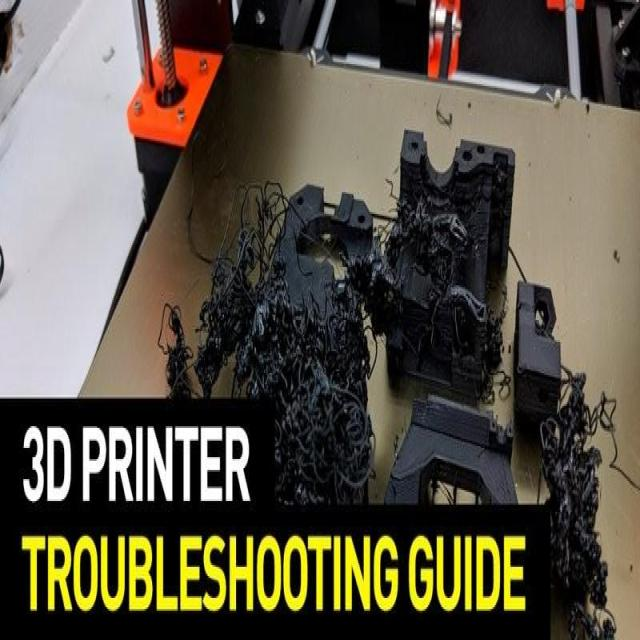Spaghetti: (174, 167, 370, 522), (376, 131, 507, 401), (534, 312, 630, 640)
